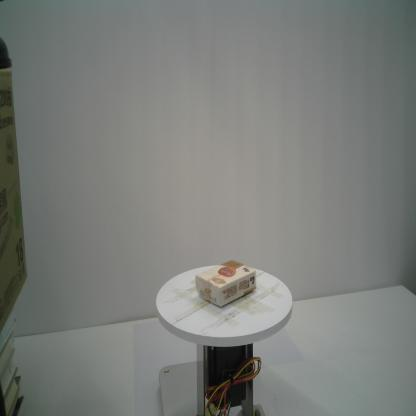Tissue: (193, 258, 259, 309)
